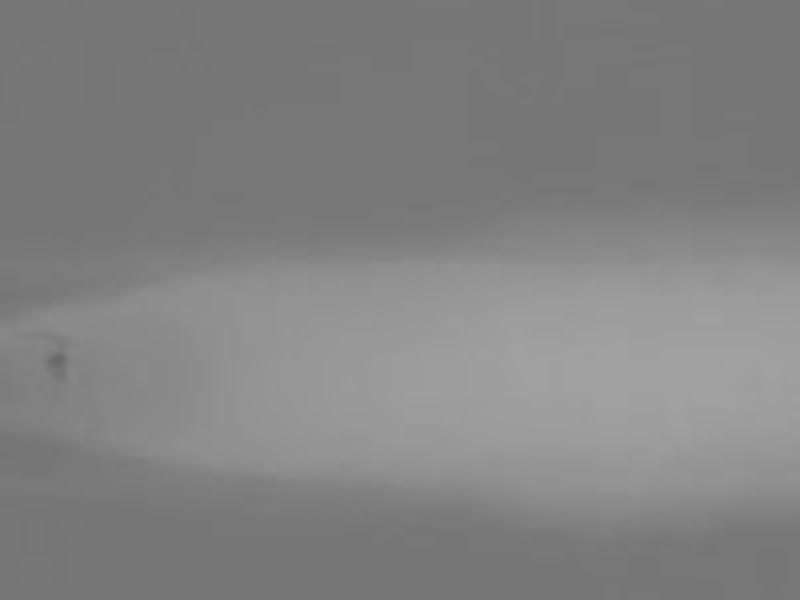defect: (42, 352, 67, 379)
